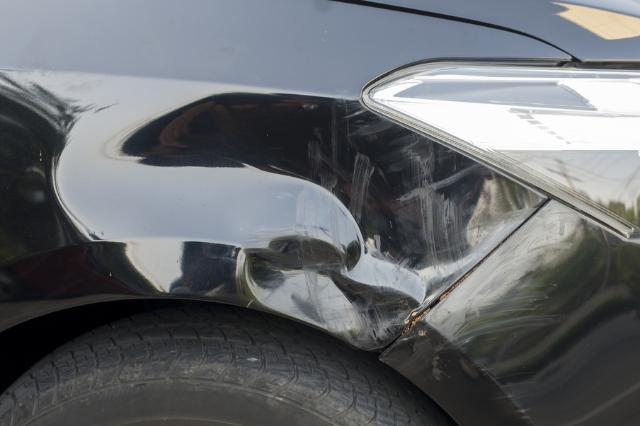Bumper: (454, 344, 546, 426)
Fender: (77, 83, 443, 321)
